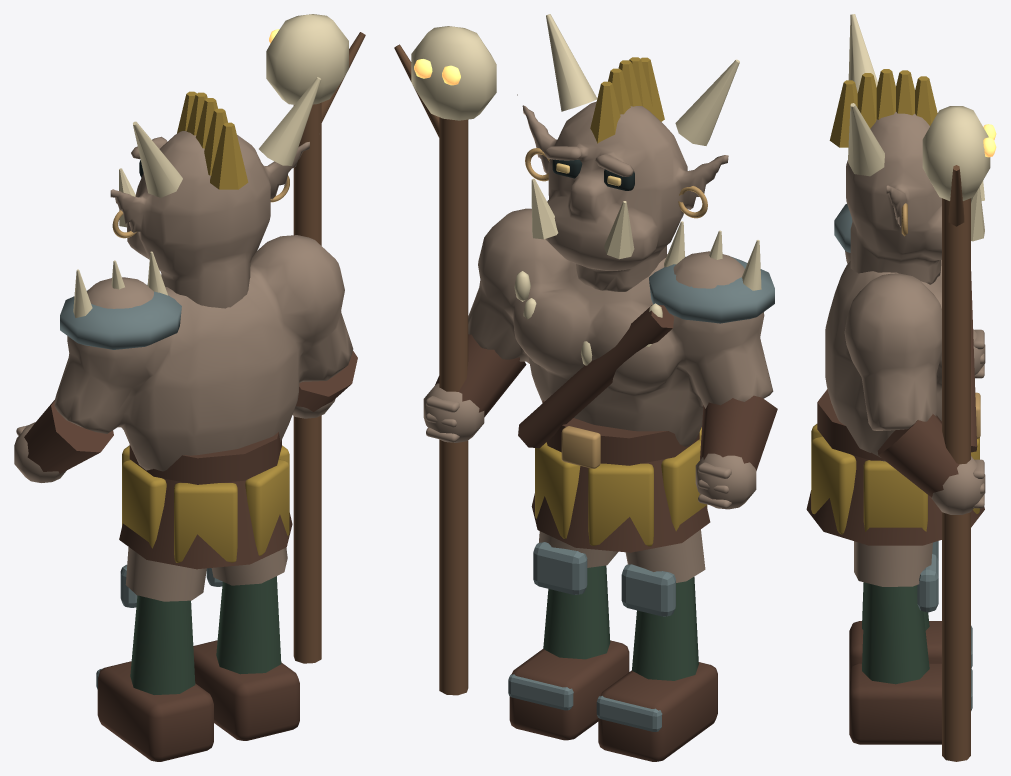
File: host_32.glb
The picture shows the model from 3 angles, left to right: view 1: azimuth 30°, elevation 25°; view 2: azimuth 150°, elevation 25°; view 3: azimuth 270°, elevation 25°; orthographic projection. The views are drawn at different scales.
Parts seen in each view (by area): view 1: mesh_Skin.002, mesh_Cloth.031, mesh_Leather.002, mesh_Bone.031, mesh_Wood.031, mesh_Leather.031, mesh_Leather.001, mesh_Shadow.031, mesh_Shadow.001, mesh_Iron.002, mesh_Skin.031, mesh_Skin.001; view 2: mesh_Skin.002, mesh_Leather.002, mesh_Wood.031, mesh_Bone.031, mesh_Cloth.031, mesh_Leather.031, mesh_Leather.001, mesh_Shadow.031, mesh_Shadow.001, mesh_Iron.002, mesh_Iron.031, mesh_Iron.001 (+4 smaller); view 3: mesh_Skin.002, mesh_Wood.031, mesh_Cloth.031, mesh_Leather.002, mesh_Bone.031, mesh_Leather.001, mesh_Shadow.001, mesh_Skin.001, mesh_Leather.031, mesh_Iron.001, mesh_Iron.002, mesh_Copper.031 (+1 smaller).
Boxes of the visible parts, <box> form: mesh_Skin.002: <box>14,130,353,482</box>; mesh_Cloth.031: <box>122,91,289,562</box>; mesh_Leather.002: <box>24,351,357,569</box>; mesh_Bone.031: <box>73,14,348,317</box>; mesh_Wood.031: <box>293,32,365,663</box>; mesh_Leather.031: <box>97,661,213,761</box>; mesh_Leather.001: <box>193,640,299,740</box>; mesh_Shadow.031: <box>130,595,195,694</box>; mesh_Shadow.001: <box>216,576,281,674</box>; mesh_Iron.002: <box>60,284,181,349</box>; mesh_Skin.031: <box>125,547,206,601</box>; mesh_Skin.001: <box>211,548,287,585</box>; mesh_Skin.002: <box>423,94,773,509</box>; mesh_Leather.002: <box>435,304,777,552</box>; mesh_Wood.031: <box>394,44,468,695</box>; mesh_Bone.031: <box>411,14,761,365</box>; mesh_Cloth.031: <box>535,57,707,546</box>; mesh_Leather.031: <box>598,662,717,761</box>; mesh_Leather.001: <box>509,640,629,740</box>; mesh_Shadow.031: <box>632,577,698,680</box>; mesh_Shadow.001: <box>543,565,610,659</box>; mesh_Iron.002: <box>649,256,774,323</box>; mesh_Iron.031: <box>596,564,675,731</box>; mesh_Iron.001: <box>508,542,587,710</box>; mesh_Skin.002: <box>825,112,985,514</box>; mesh_Wood.031: <box>942,165,970,761</box>; mesh_Cloth.031: <box>811,69,979,534</box>; mesh_Leather.002: <box>806,271,984,545</box>; mesh_Bone.031: <box>848,14,990,241</box>; mesh_Leather.001: <box>849,663,941,744</box>; mesh_Shadow.001: <box>862,582,929,684</box>; mesh_Skin.001: <box>854,541,932,586</box>; mesh_Leather.031: <box>849,621,941,672</box>; mesh_Iron.001: <box>917,554,972,710</box>; mesh_Iron.002: <box>834,204,852,252</box>; mesh_Copper.031: <box>901,203,980,438</box>.
Bounding box in the file's own units: 1.08 × 1.98 × 0.5101.
